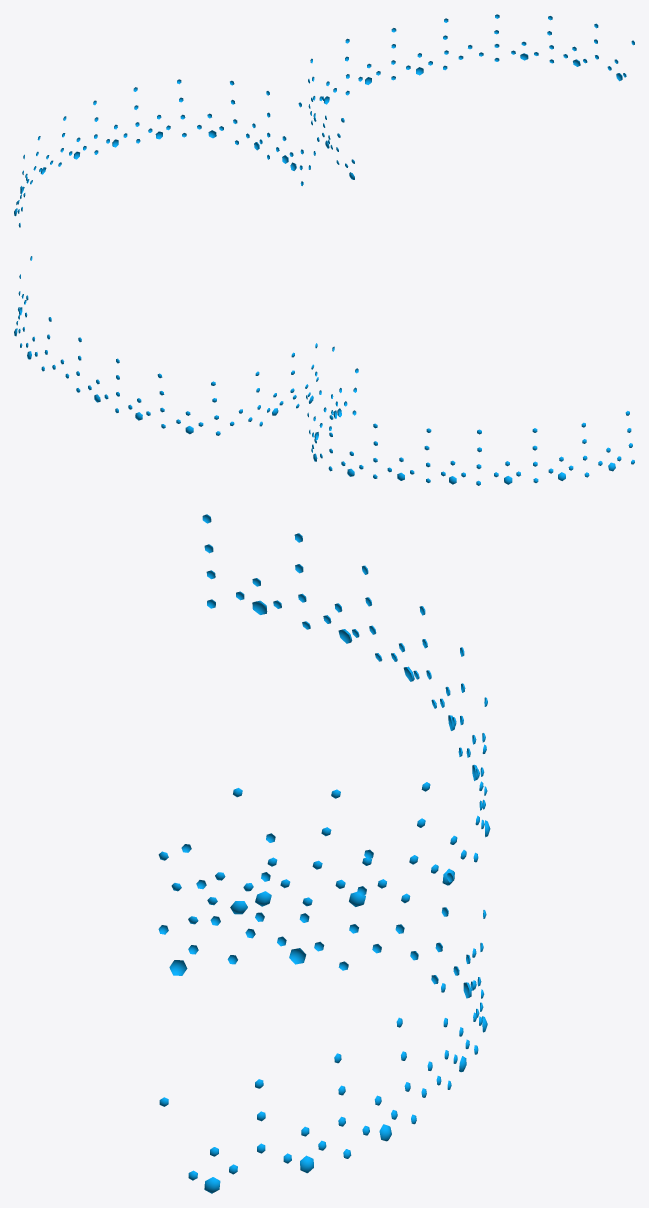
The model's file is crystals-back_side-slit.glb.
The picture shows the model from 3 angles, top to bottom: view 1: azimuth 30°, elevation 25°; view 2: azimuth 150°, elevation 25°; view 3: azimuth 270°, elevation 25°; orthographic projection. The views are drawn at different scales.
Parts seen in each view (by area): view 1: crystals-back; view 2: crystals-back; view 3: crystals-back.
Part boxes in pixels (box(x1,y1,x2,y2)): crystals-back: box(14, 14, 634, 227); crystals-back: box(14, 256, 634, 485); crystals-back: box(158, 514, 490, 1193).
Bounding box in the file's own units: 2.1 × 0.2559 × 0.5002.
